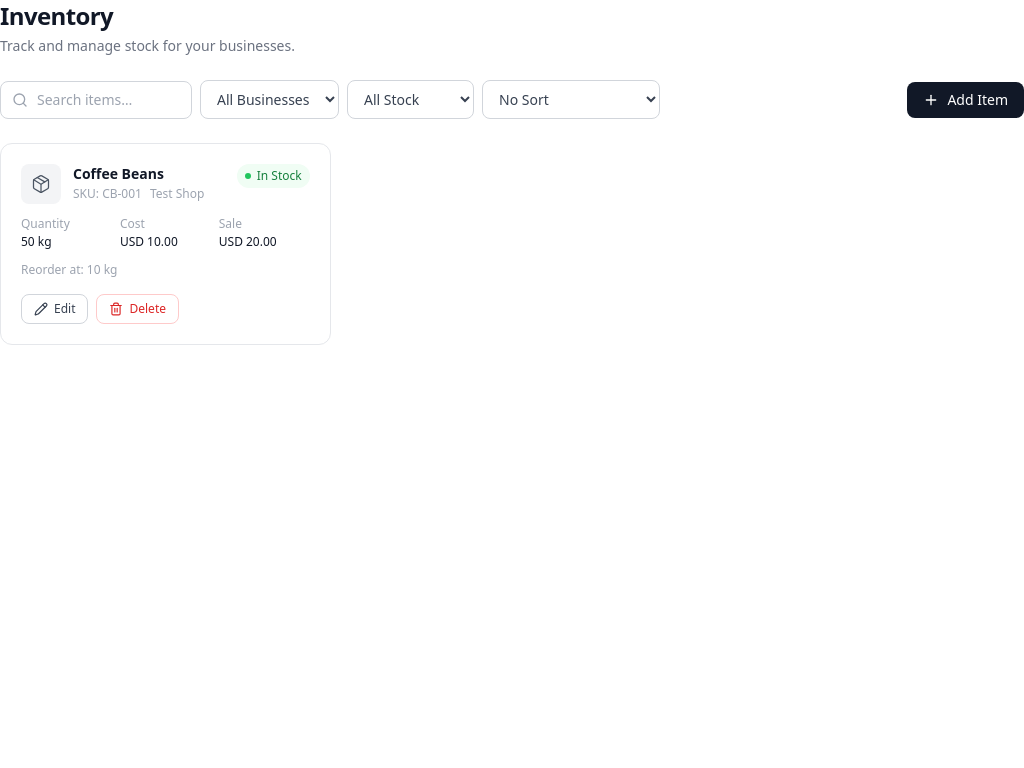
Test case: InventoryPage — delete › shows delete confirmation dialog
Expected: the heading "Coffee Beans" is shown, [73,164,164,183]
Click the button with aria-label "Delete Coffee Beans" at coordinates (138, 309), box [96,294,179,324]
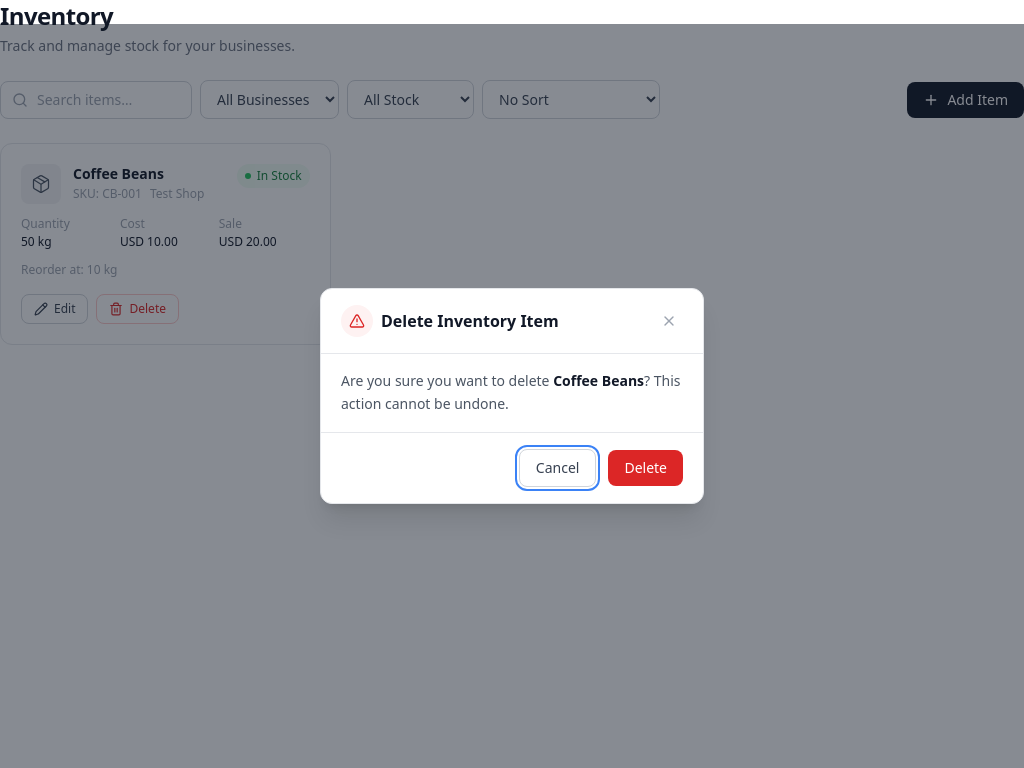
Result: the heading "Delete Inventory Item" is shown at [381,309,559,333]
Result: the text "Are you sure you want to delete" is shown at [341,371,553,390]
